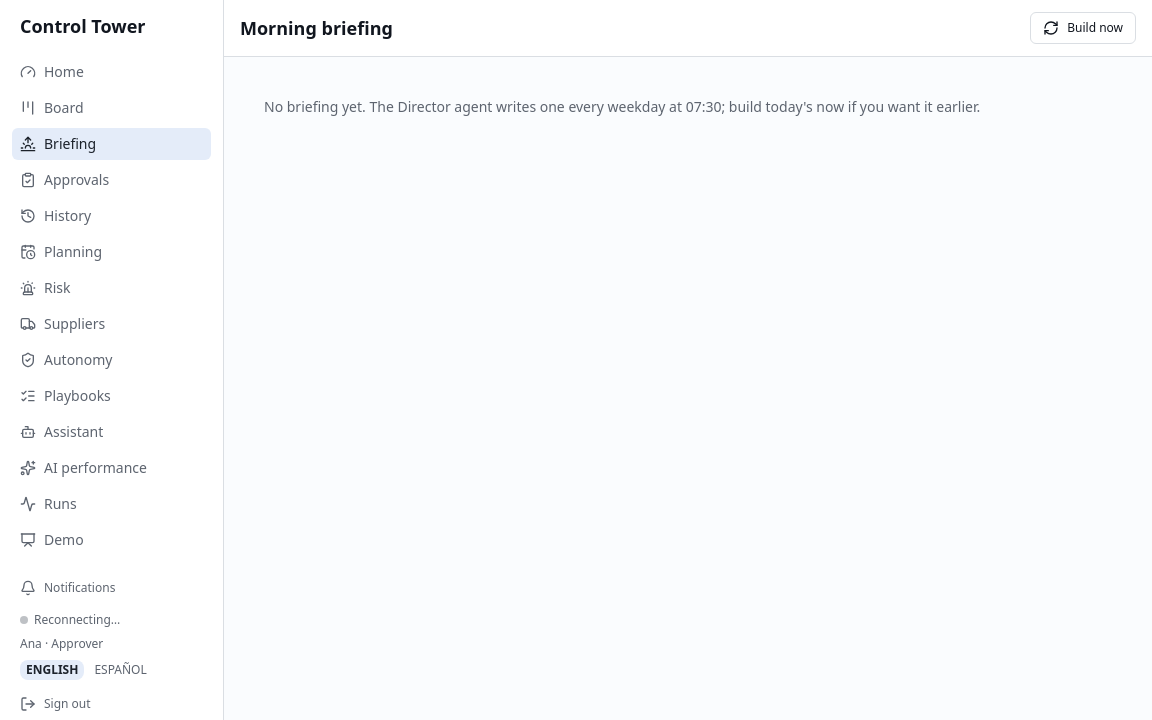
Test: morning briefing › builds today's briefing on request, shows the paragraph and the sections, and emails it
Expected: the heading "Morning briefing" is shown, [240,14,393,42]
Expected: the text "No briefing yet" is shown, [264,97,980,116]
Click the button "Build now". click: (1083, 28)
box: [1030,12,1136,44]
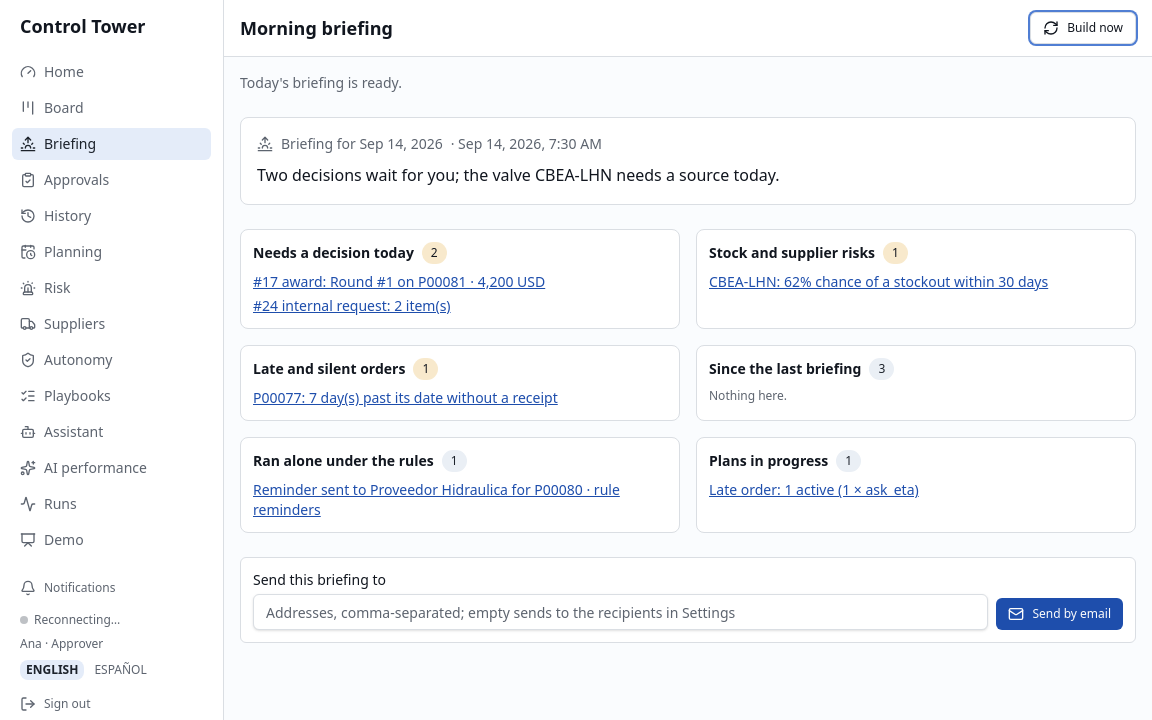
Result: the text "Two decisions wait for you" is shown at [257,164,780,186]
Result: the text "2" is shown at [422,242,447,264]
Result: the text "Nothing here." is shown at [709,387,787,404]
Type "ana@x.com" into the field labelled "Send this briefing to". click: (621, 612)
box: [253,594,988,630]
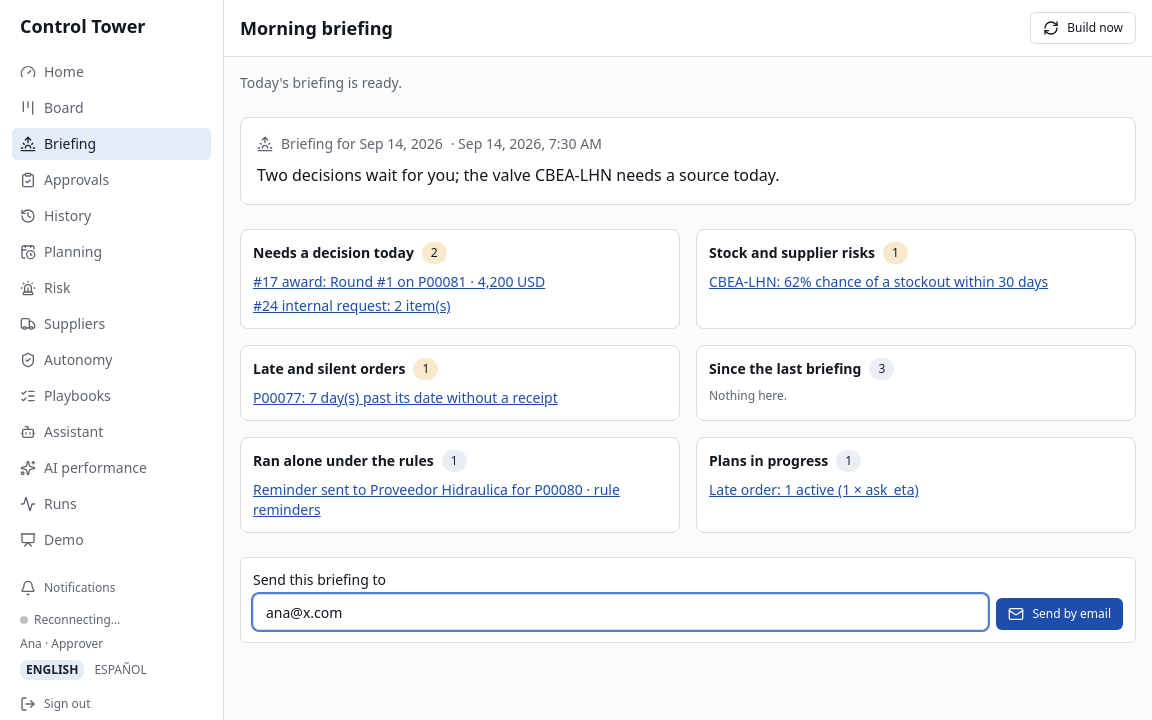
Click the button "Send by email". click: (1060, 614)
box: [996,598,1123,630]
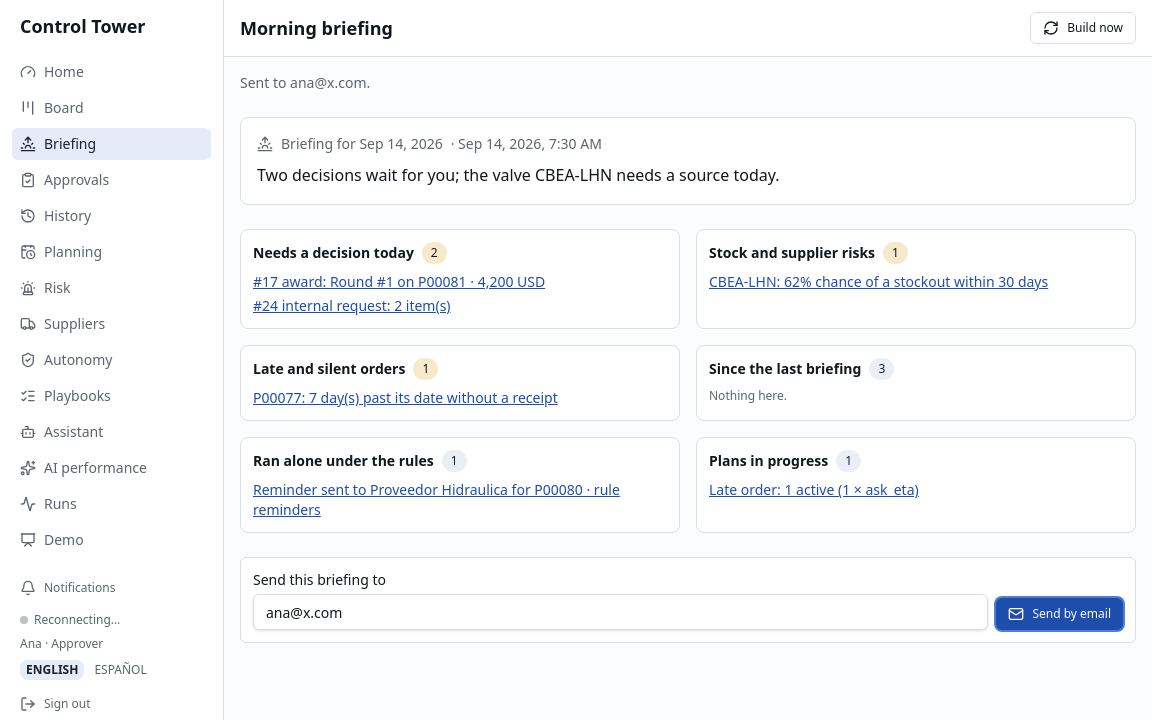
Result: the message reads "Sent to ana@x.com." at [240,73,370,92]
